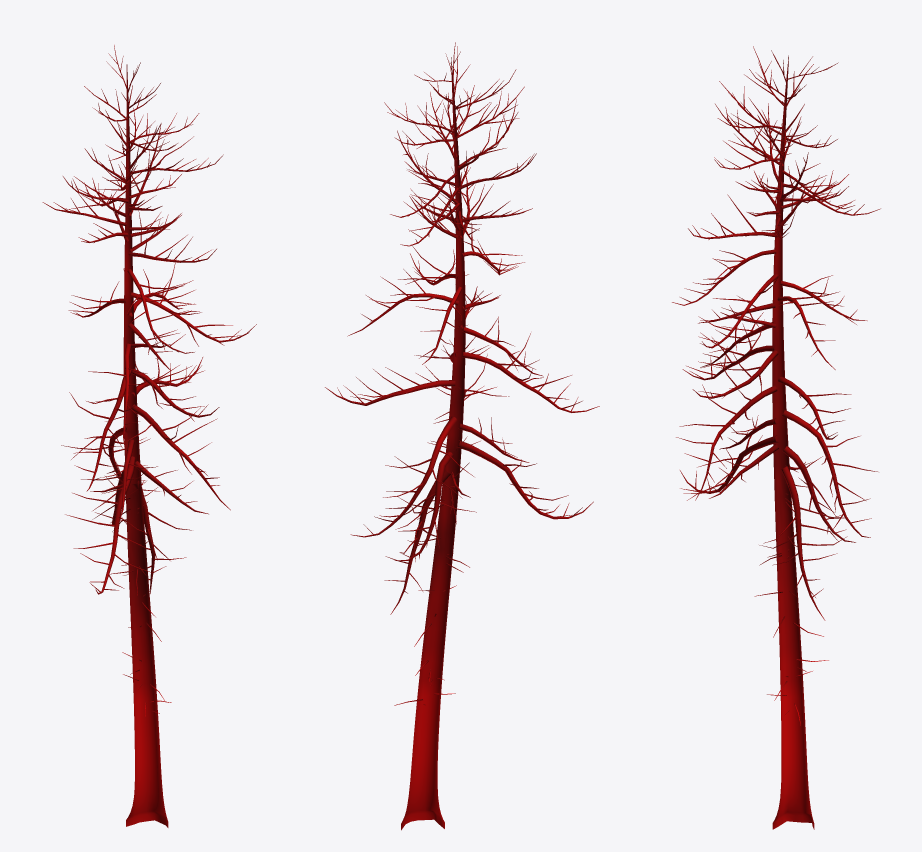
Rendered from pine_b_lod0.glb.
3 views of the same model, side by side, from view 1: azimuth 30°, elevation 25°; view 2: azimuth 150°, elevation 25°; view 3: azimuth 270°, elevation 25° (orthographic).
Parts seen in each view (by area): view 1: pine_b_LOD0; view 2: pine_b_LOD0; view 3: pine_b_LOD0.
Part boxes in pixels (<box>): pine_b_LOD0: <box>42,45,256,827</box>; pine_b_LOD0: <box>325,42,599,830</box>; pine_b_LOD0: <box>672,46,880,829</box>.
Size of the model in its own units: 8.88 by 29.46 by 8.66.
